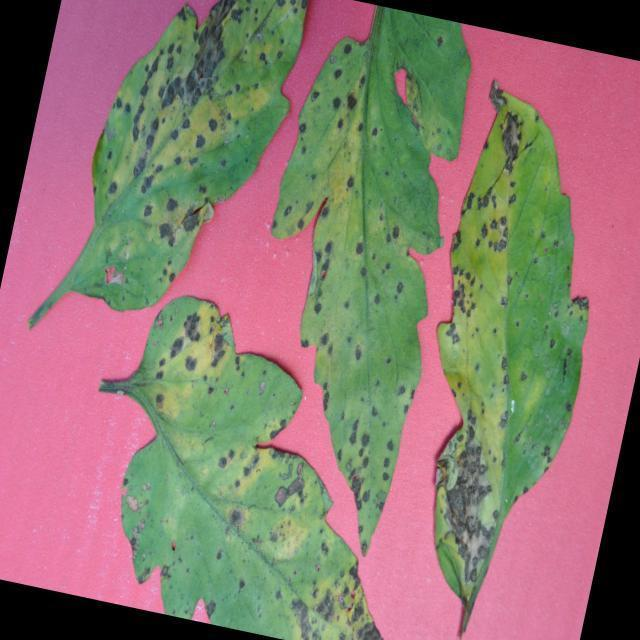Septoria: (207, 0, 493, 571), (374, 88, 625, 632), (67, 406, 411, 640), (84, 0, 316, 274)
